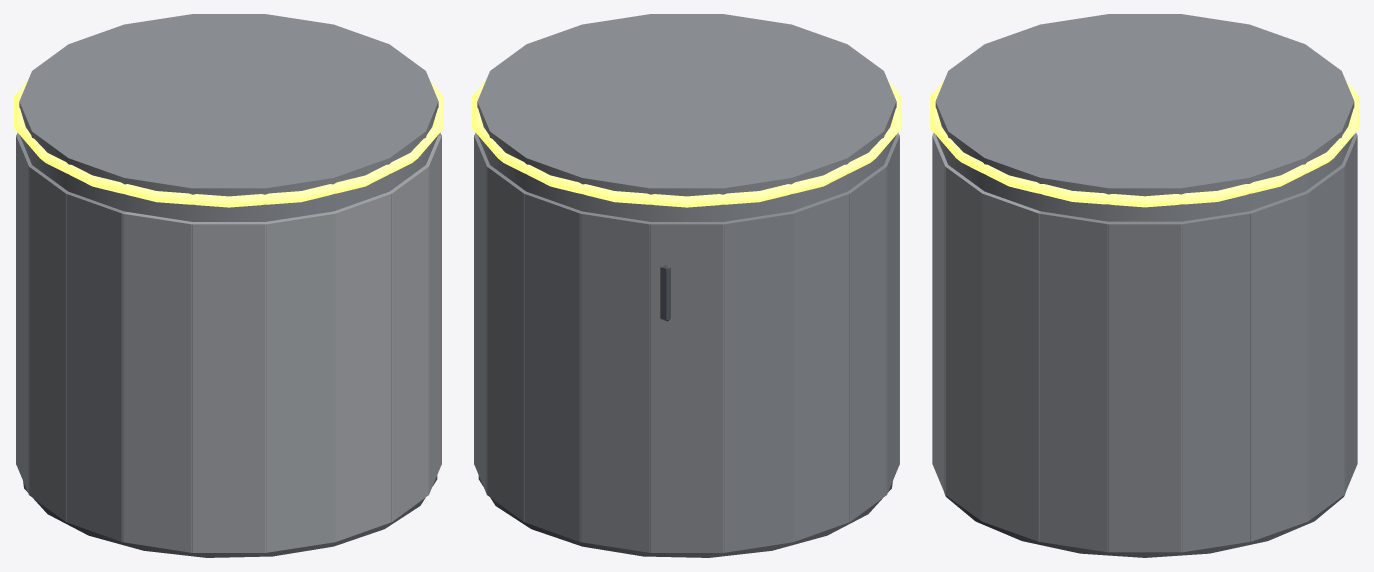
The model's file is rb_station_dancer.glb.
3 views of the same model, side by side, from view 1: azimuth 30°, elevation 25°; view 2: azimuth 150°, elevation 25°; view 3: azimuth 270°, elevation 25° (orthographic).
Visible parts, largest first — view 1: rb_station_dancer, shutter; view 2: rb_station_dancer; view 3: rb_station_dancer, shutter.
Boxes of the visible parts, x1,y1,x2,y2 form: rb_station_dancer: (14, 14, 443, 557); shutter: (121, 135, 441, 552); rb_station_dancer: (472, 14, 901, 557); rb_station_dancer: (930, 14, 1359, 557); shutter: (932, 132, 1040, 541).
Size of the model in its own units: 3.54 by 3.3 by 3.49.
